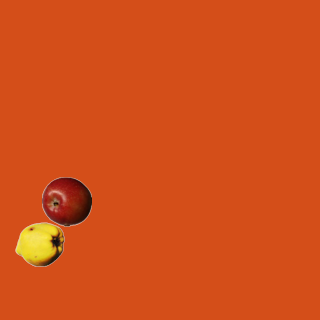Apple Braeburn: (41, 176, 91, 226)
Quince: (14, 219, 64, 269)
